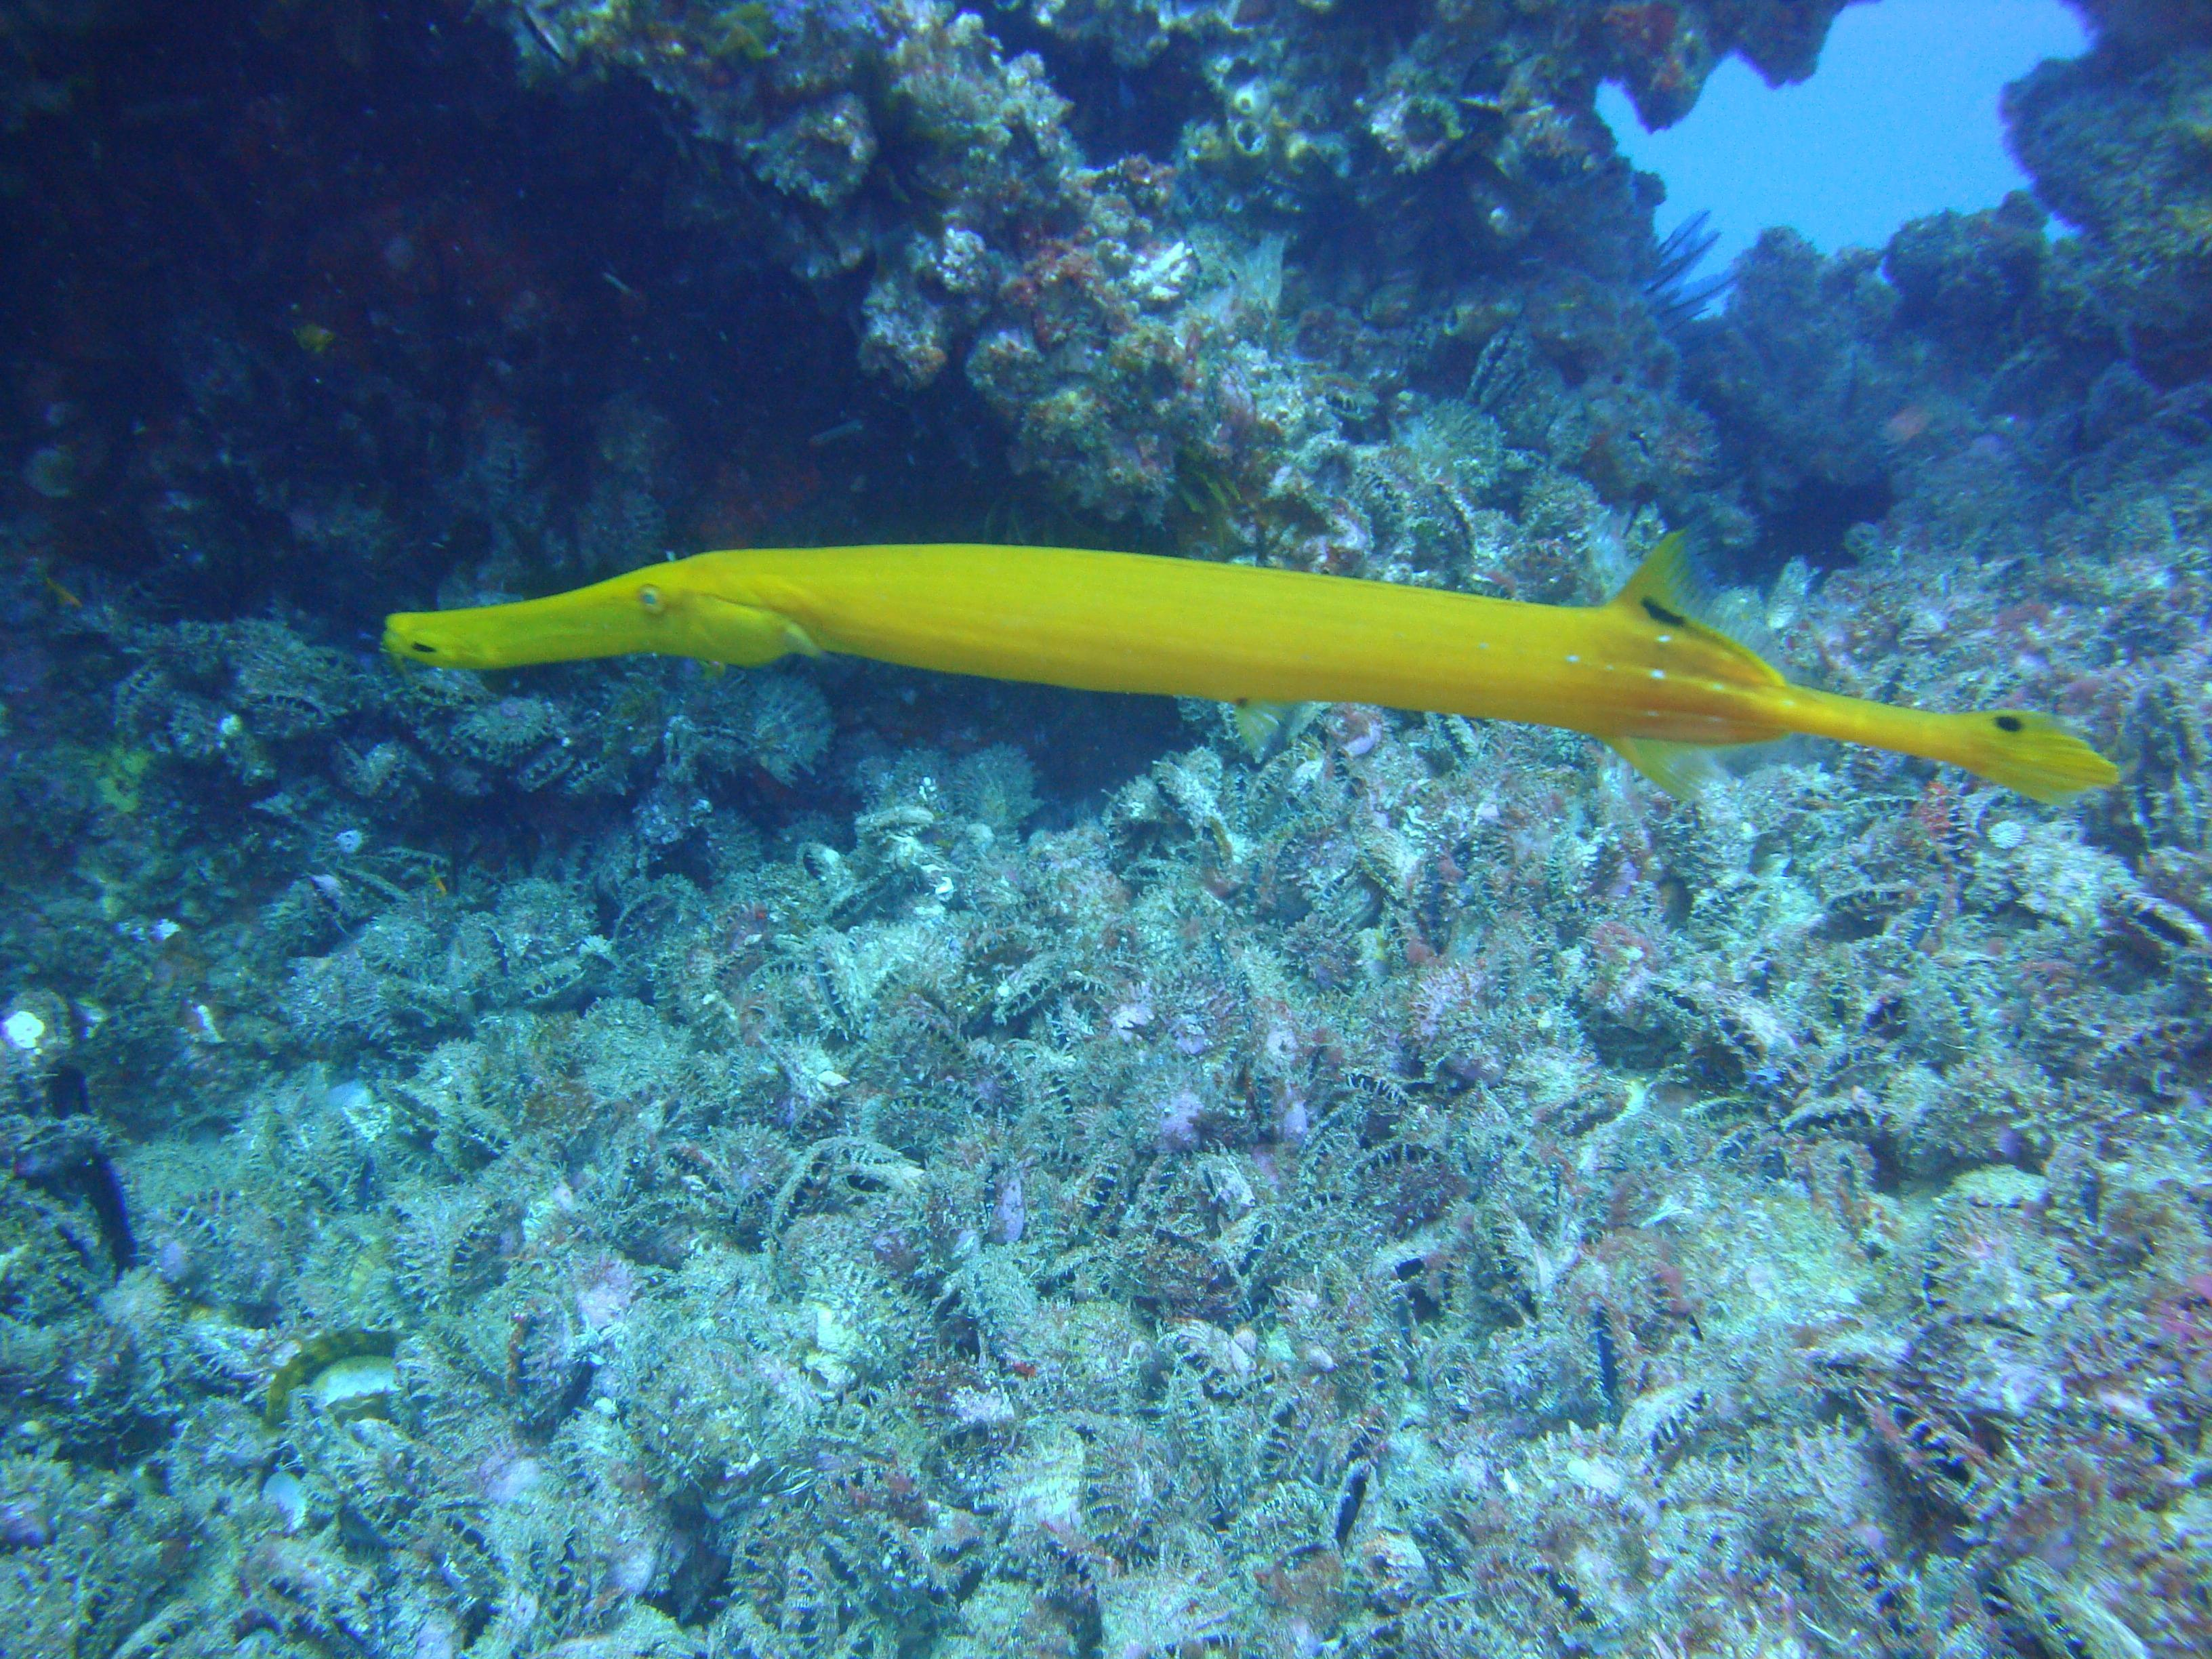Fish: (345, 474, 2099, 829)
